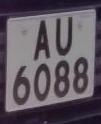0: (32, 59, 54, 106)
6: (12, 59, 33, 111)
8: (52, 58, 72, 103), (72, 54, 89, 96)
A: (30, 17, 54, 63)
U: (52, 13, 75, 57)
